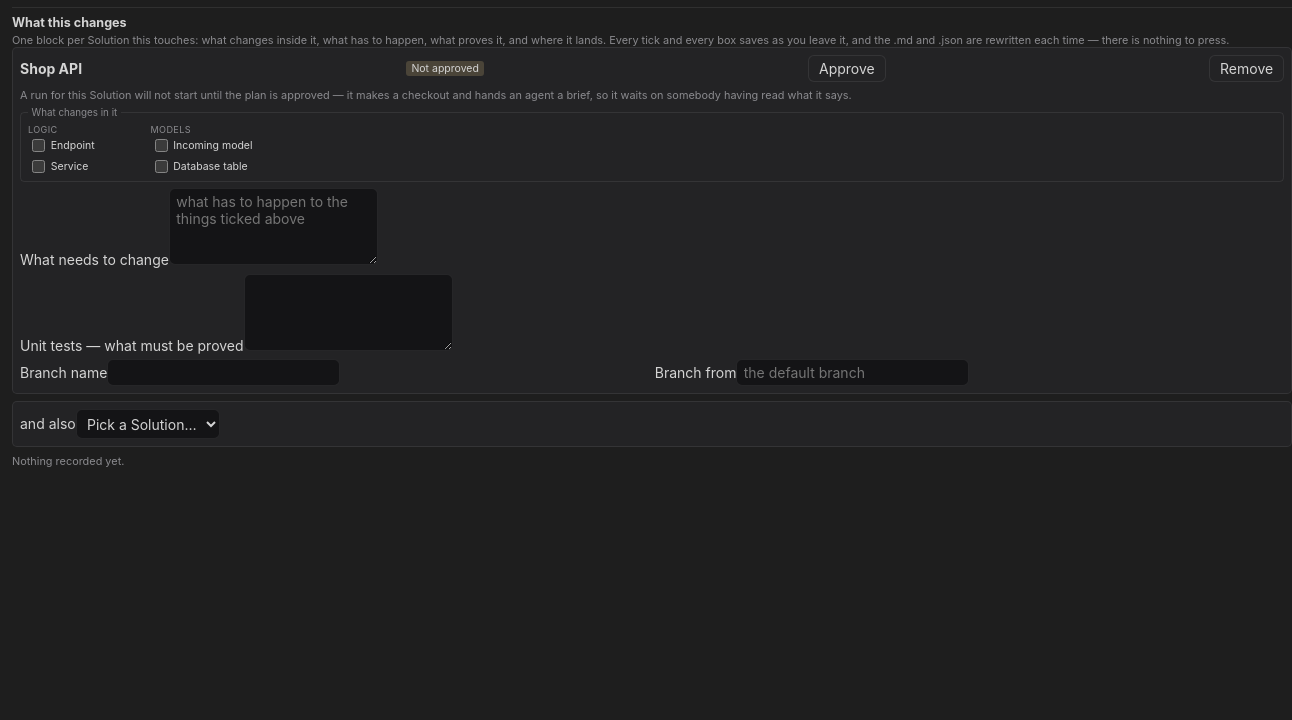
WorkItemChanges — the developer's half › says where each suggestion came from
Click the checkbox named "Endpoint changes in Shop API": [38, 146] box [32, 139, 45, 152]
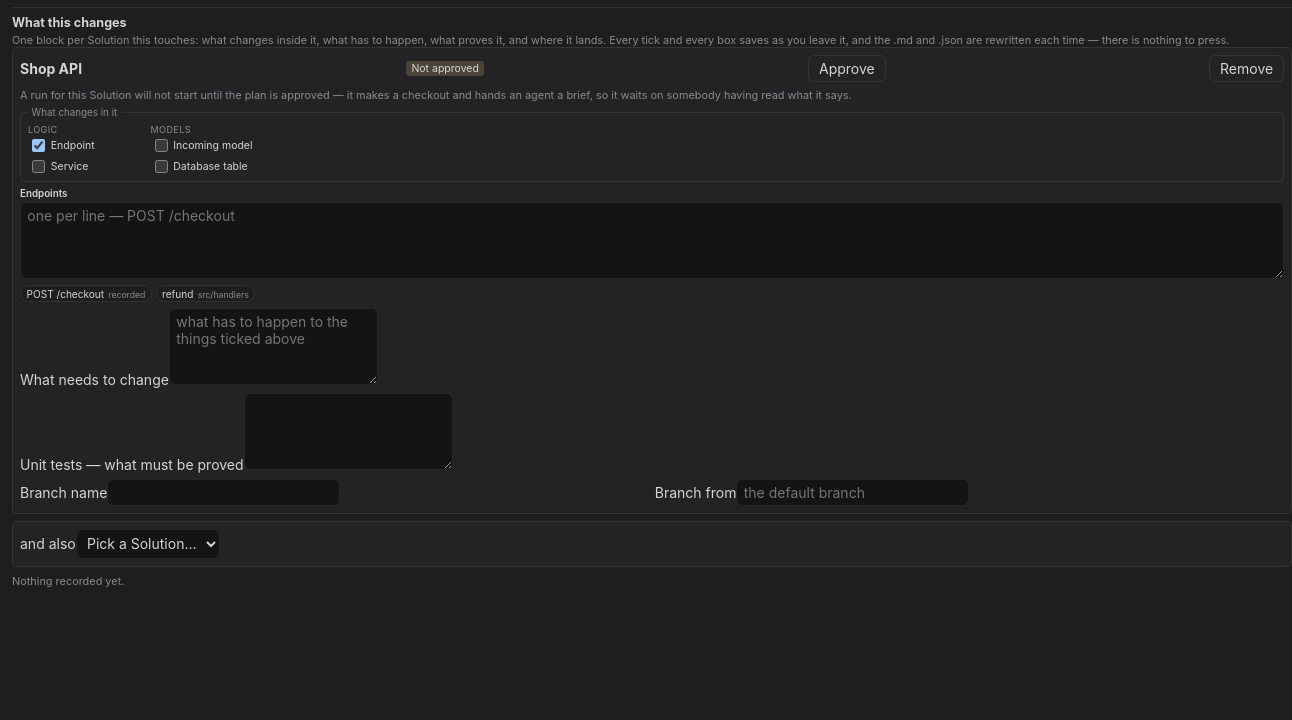
Result: the text "recorded" is shown at [108, 290, 145, 300]
Result: the text "src/handlers" is shown at [198, 290, 249, 300]
